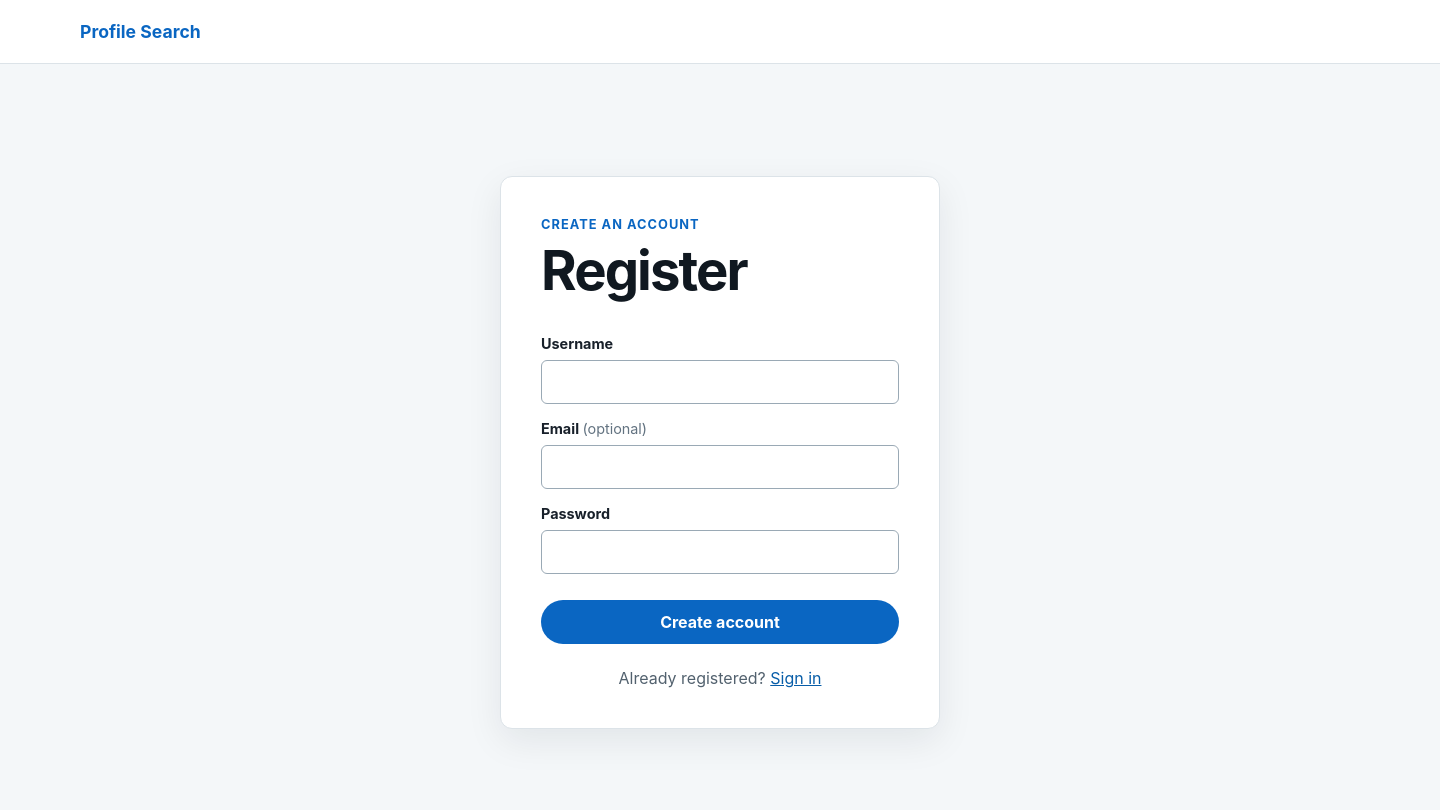
Test case: successful registration redirects to login with feedback
expect the heading "Register" is shown: met, box x1=541 y1=237 x2=747 y2=303
In the field labelled "Username": coordinates (720, 382) x1=541 y1=360 x2=899 y2=404, type "reviewer"
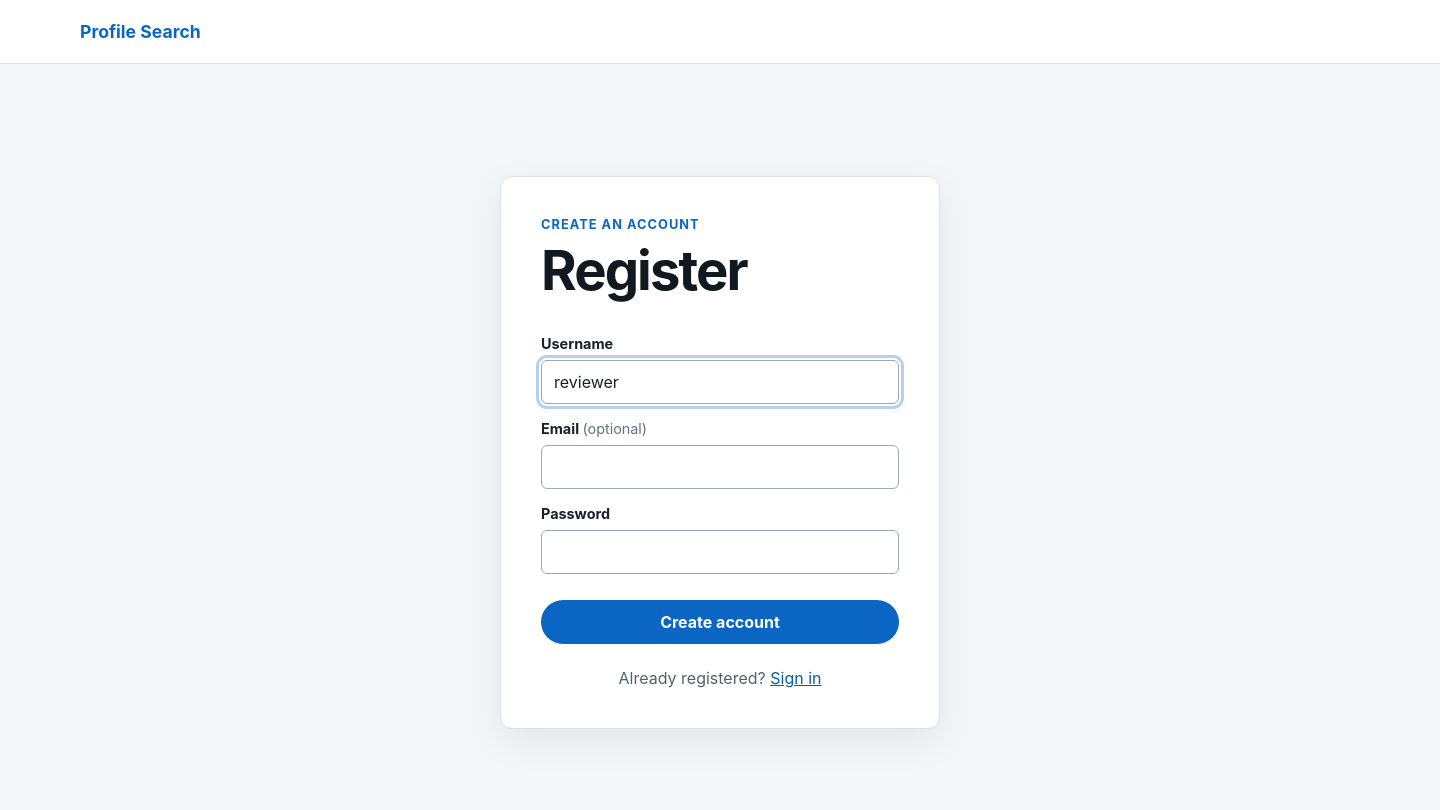
In the field labelled "Email (optional)": coordinates (720, 467) x1=541 y1=445 x2=899 y2=489, type "reviewer@example.com"
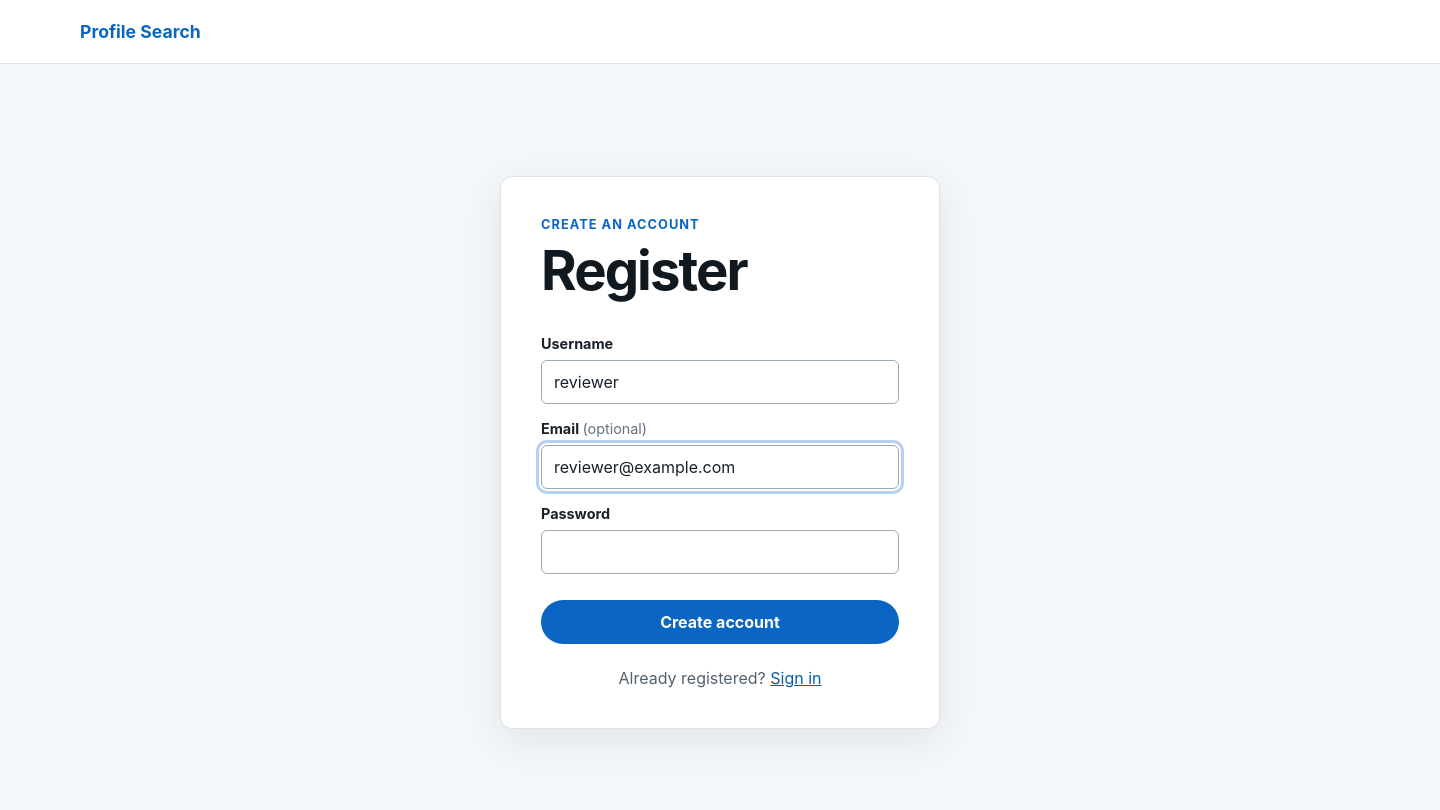
In the password field labelled "Password": coordinates (720, 552) x1=541 y1=530 x2=899 y2=574, type "strong-password"
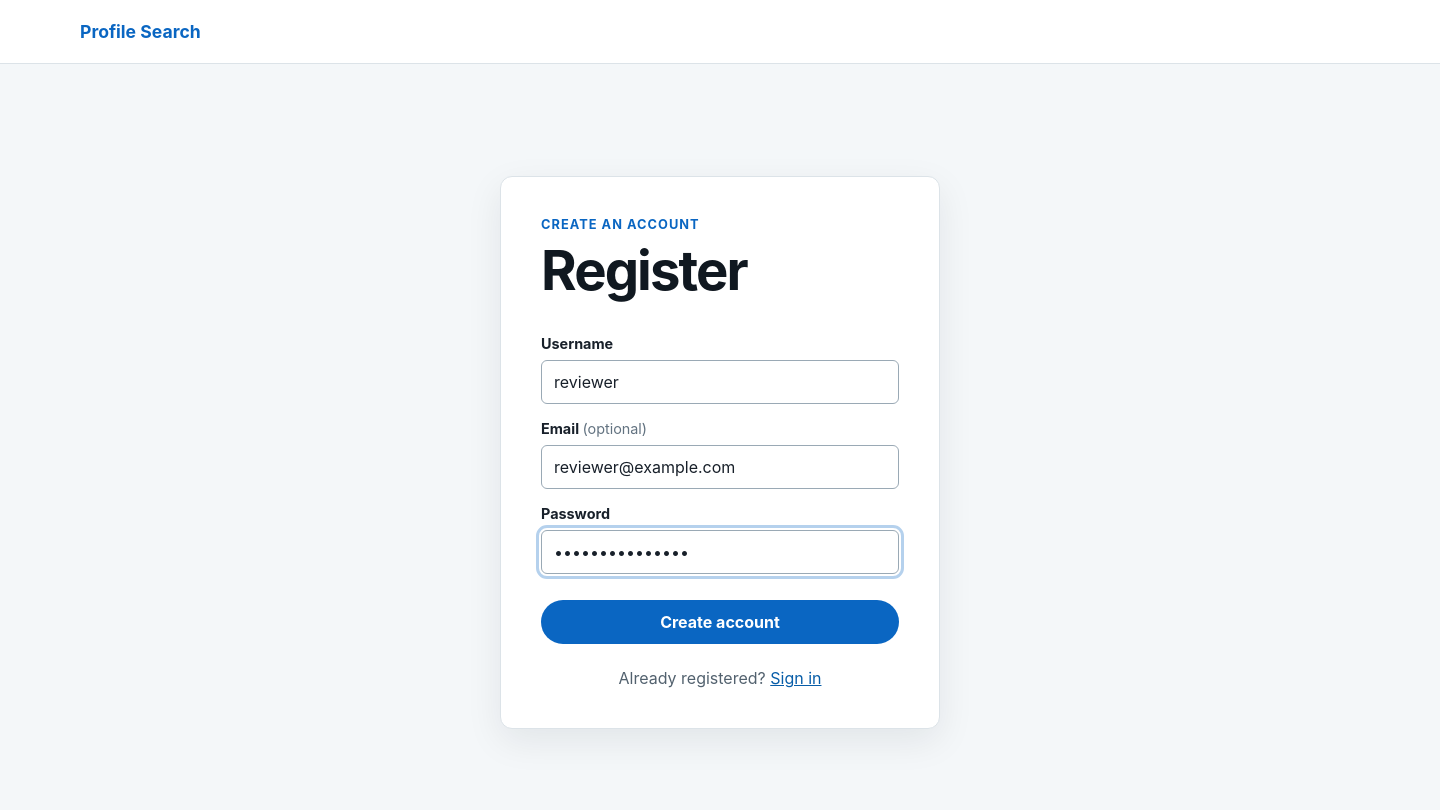
Click the button "Create account": coordinates (720, 622) x1=541 y1=600 x2=899 y2=644
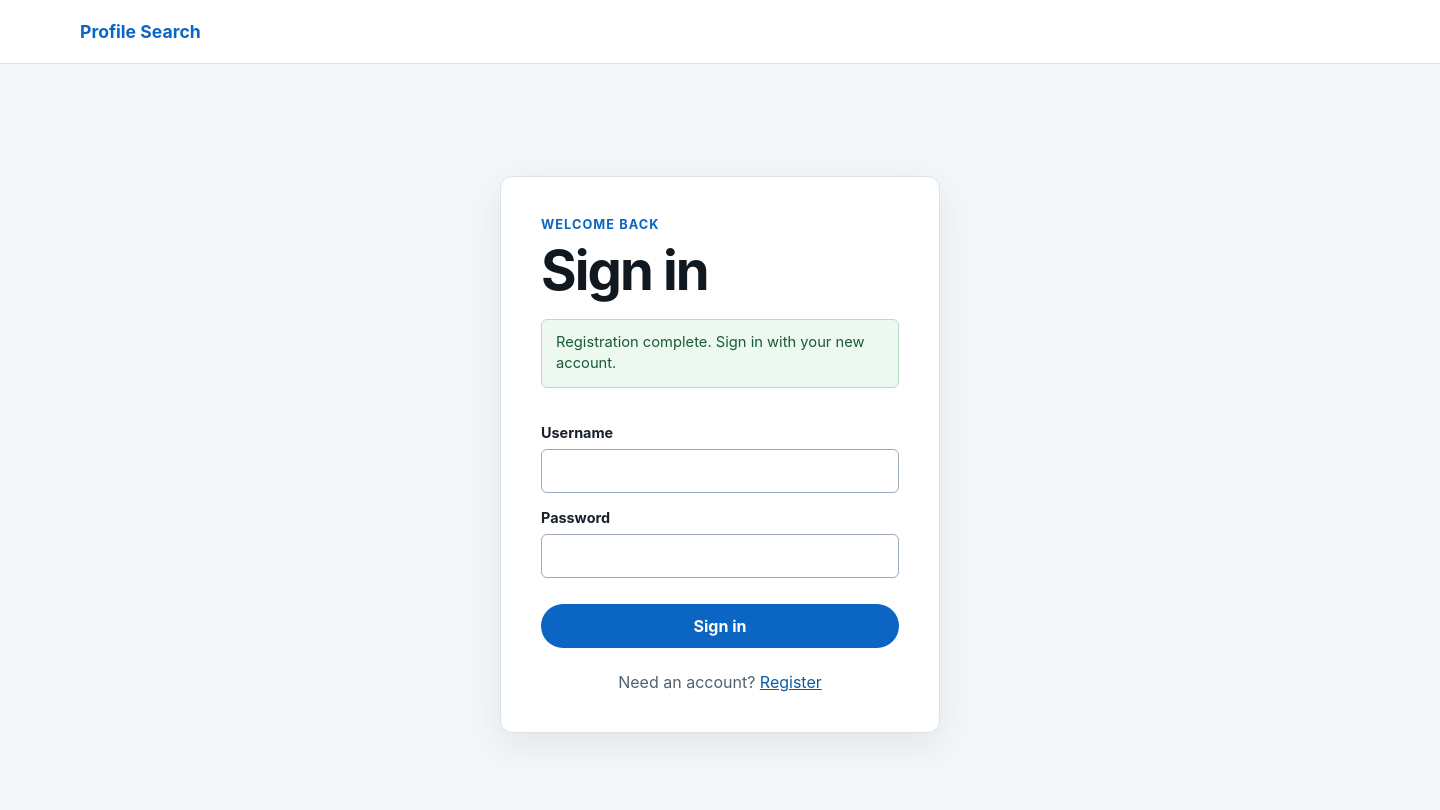
expect the heading "Sign in" is shown: met, box x1=541 y1=237 x2=708 y2=303
expect the message shows "Registration complete": met, box x1=556 y1=333 x2=865 y2=372
